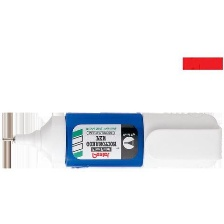correction_fluid: (0, 110, 224, 168)
